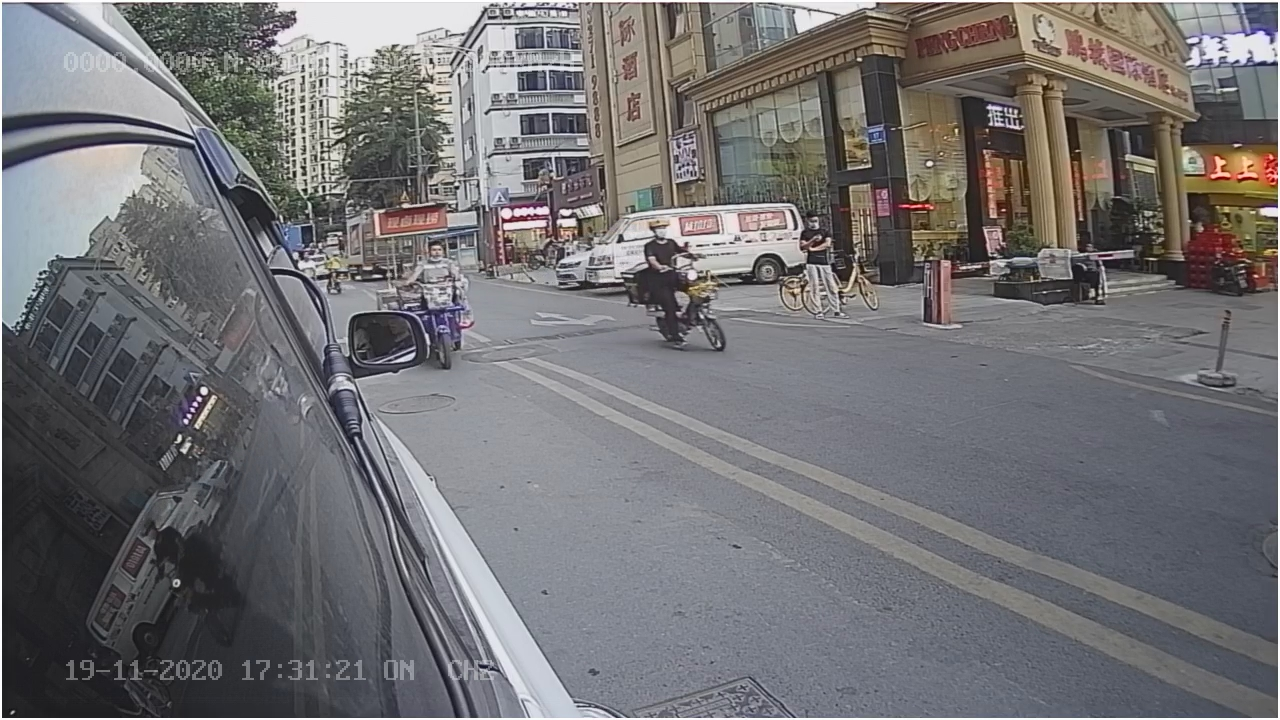person: (407, 238, 468, 288)
